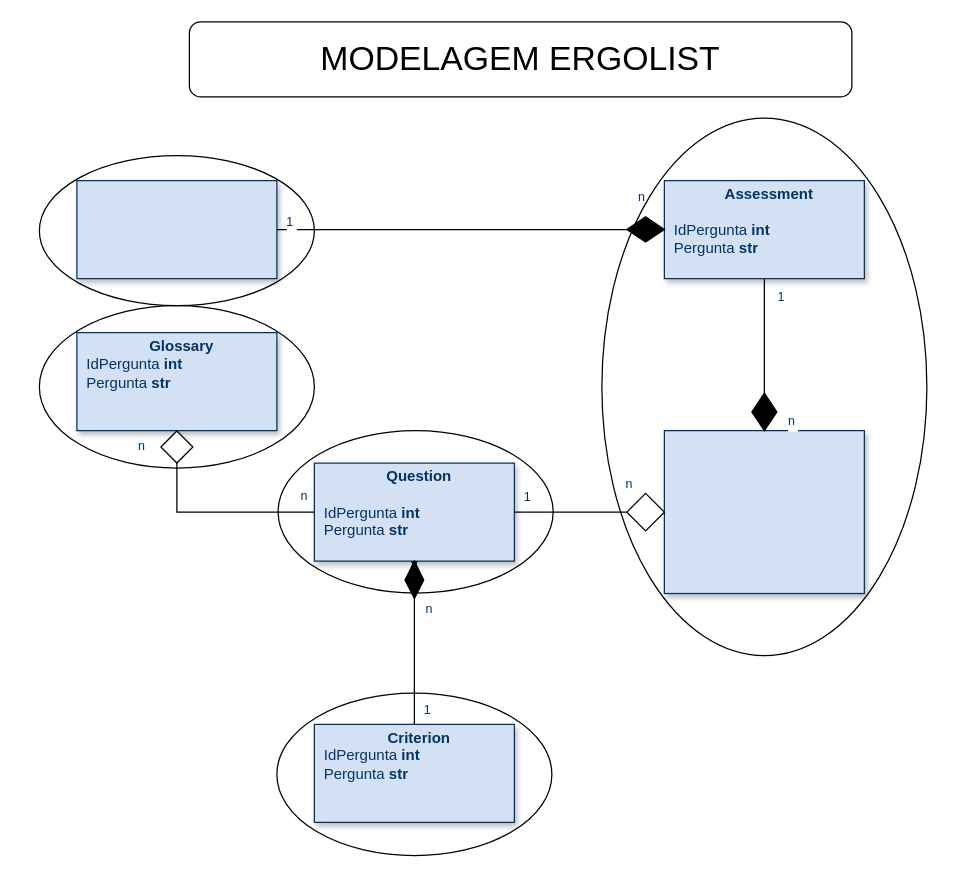
Image size: 969x878. Some labels were removed from this diagram. The shapes that lost their labels are listed below. From the top down, each one's centre as x and y in pixels, then its label:
At point 177,230: "User IdUsuário int Nome str".
At point 765,513: "Answer IdResposta int Resposta str IdUsuário int IdPergunta int".
